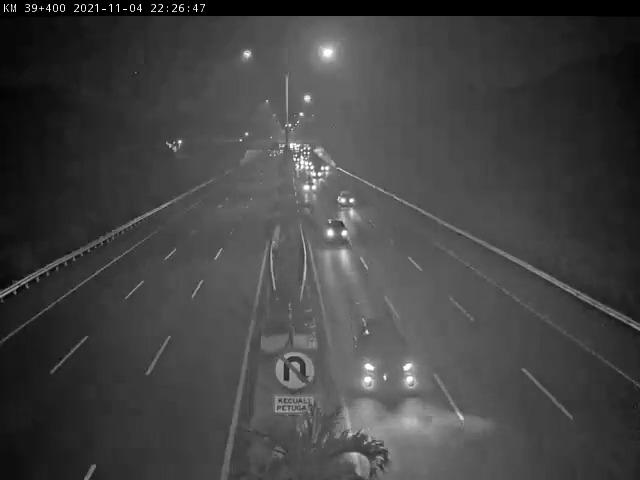car: (350, 313, 426, 397), (321, 215, 350, 245), (335, 185, 359, 209), (301, 179, 319, 195)
